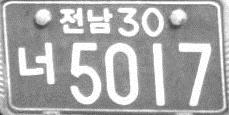0: (103, 41, 139, 105), (140, 6, 165, 37)
1: (149, 41, 170, 106)
3: (115, 6, 140, 38)
5: (68, 41, 102, 104)
7: (177, 41, 213, 108)
너: (17, 39, 55, 85)
전남_O: (59, 5, 113, 35)
